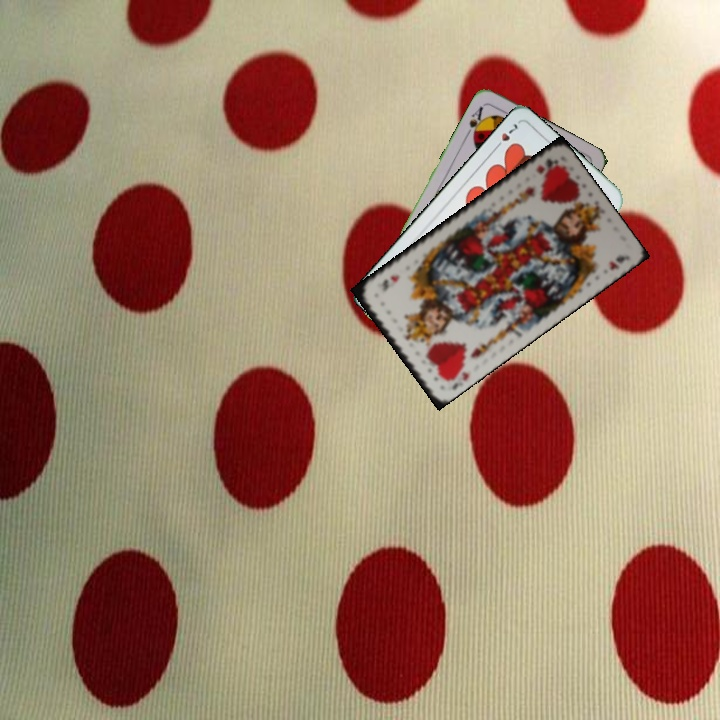H7: (490, 119, 521, 152)
HK: (532, 154, 561, 176), (448, 367, 472, 393)
SA: (462, 102, 488, 142)
